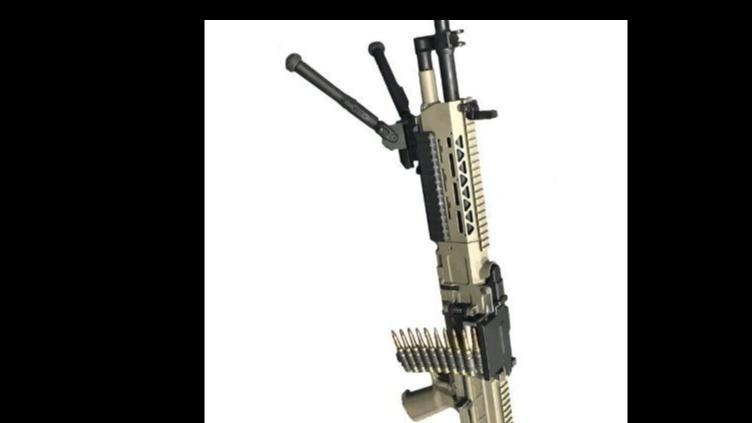larga: (286, 21, 516, 423)
